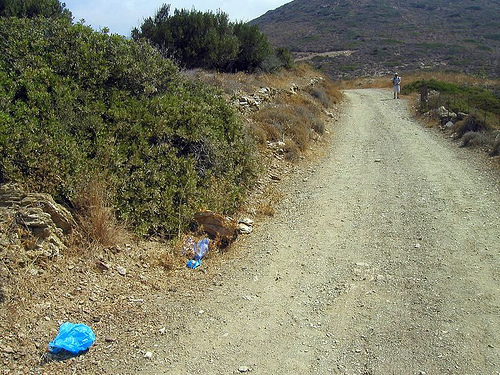litter: (50, 321, 93, 353), (184, 238, 208, 268)
